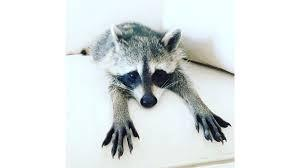raccoon: (73, 12, 238, 163)
